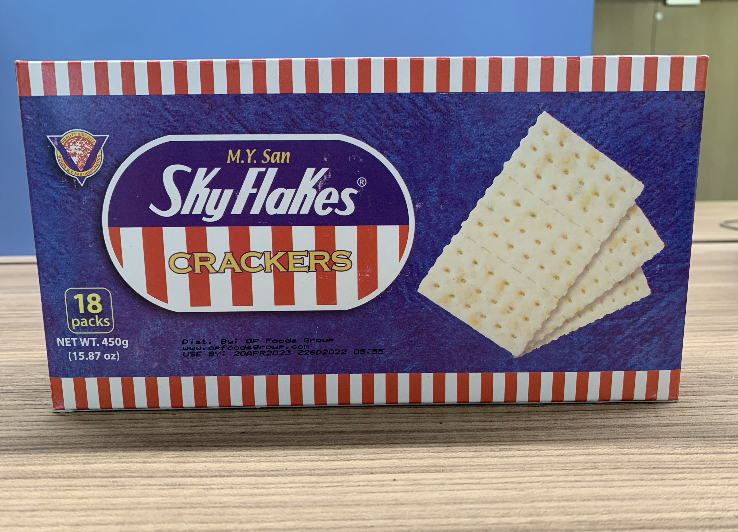crackers_450g: (53, 75, 656, 371)
